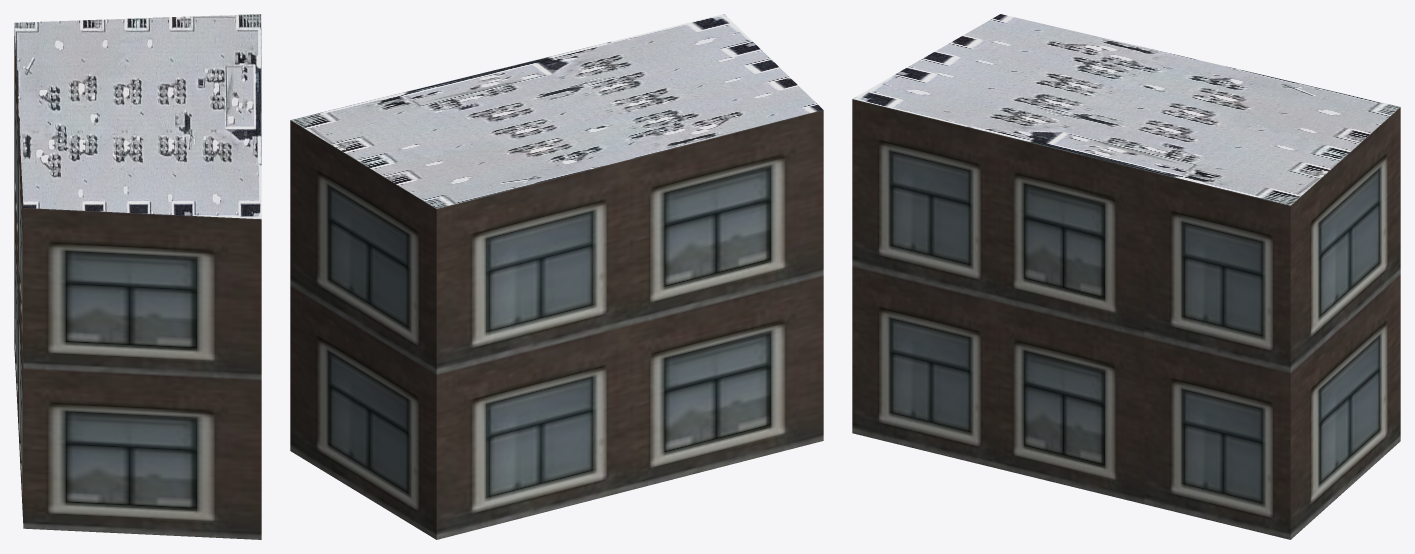
The model's file is ResTex__5089.fbx.
The picture shows the model from 3 angles, left to right: view 1: azimuth 30°, elevation 25°; view 2: azimuth 150°, elevation 25°; view 3: azimuth 270°, elevation 25°; orthographic projection. The views are drawn at different scales.
Parts seen in each view (by area): view 1: CityEngineMaterial_16_m, CityEngineMaterial_15_m; view 2: CityEngineMaterial_16_m, CityEngineMaterial_15_m; view 3: CityEngineMaterial_16_m, CityEngineMaterial_15_m.
Boxes of the visible parts, x1,y1,x2,y2 form: CityEngineMaterial_16_m: (14, 29, 261, 539); CityEngineMaterial_15_m: (14, 14, 261, 219); CityEngineMaterial_16_m: (290, 110, 823, 539); CityEngineMaterial_15_m: (291, 14, 822, 208); CityEngineMaterial_16_m: (852, 99, 1400, 539); CityEngineMaterial_15_m: (853, 14, 1400, 205).
Bounding box in the file's own units: 7.38 × 6 × 8.93.
2 materials, 2 textured.
